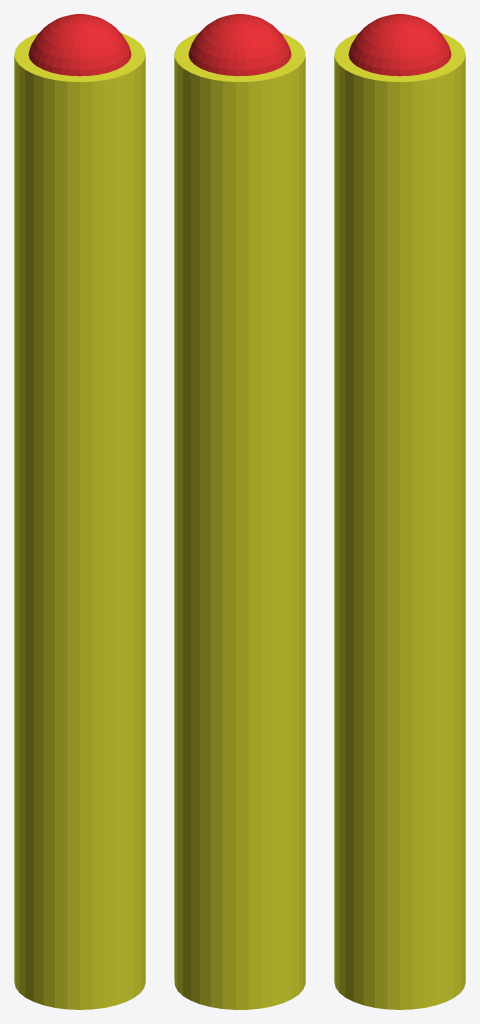
The model's file is teleporter.fbx.
3 renders of one model, left to right at view 1: azimuth 90°, elevation 25°; view 2: azimuth 210°, elevation 25°; view 3: azimuth 270°, elevation 25°, orthographic.
Visible parts, largest first — view 1: Cylinder, Sphere; view 2: Cylinder, Sphere; view 3: Cylinder, Sphere.
Boxes of the visible parts, <box> form: Cylinder: <box>14,33,145,1009</box>; Sphere: <box>28,14,131,76</box>; Cylinder: <box>174,33,305,1009</box>; Sphere: <box>188,14,291,76</box>; Cylinder: <box>334,33,465,1009</box>; Sphere: <box>348,14,451,76</box>.
Size of the model in its own units: 85.07 by 689 by 85.07.
